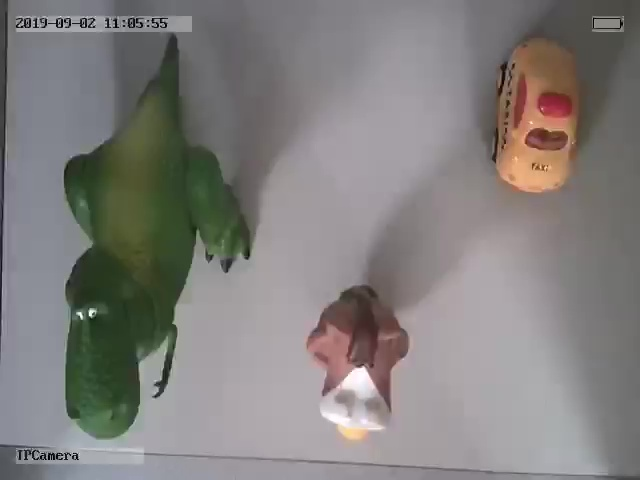car: (490, 34, 580, 195)
horse: (305, 286, 410, 444)
rex: (64, 50, 254, 440)
